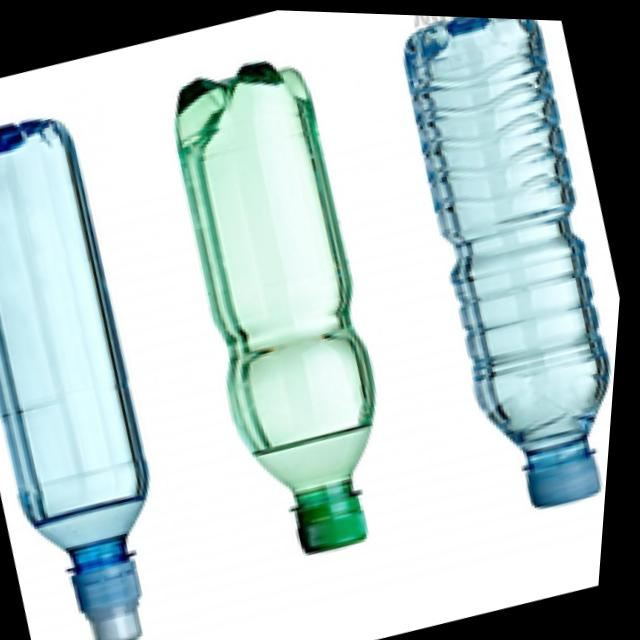plastic_water_bottles: (133, 33, 436, 573), (365, 11, 640, 526), (0, 119, 217, 640)
